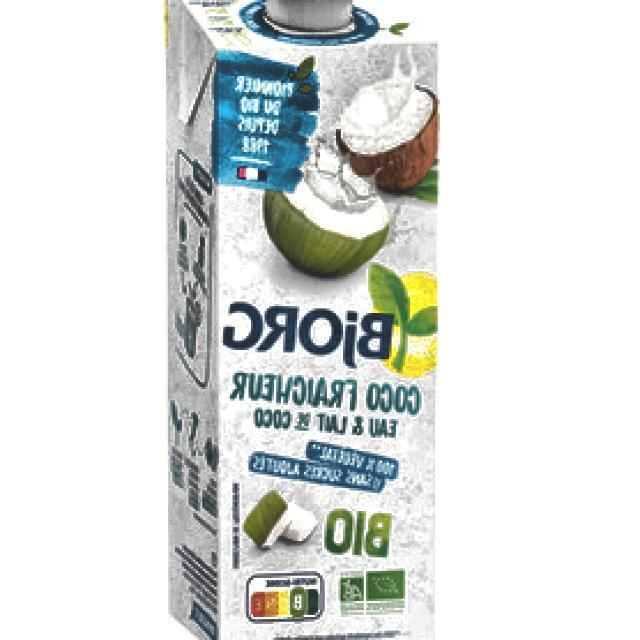cardboard: (163, 0, 442, 640)
